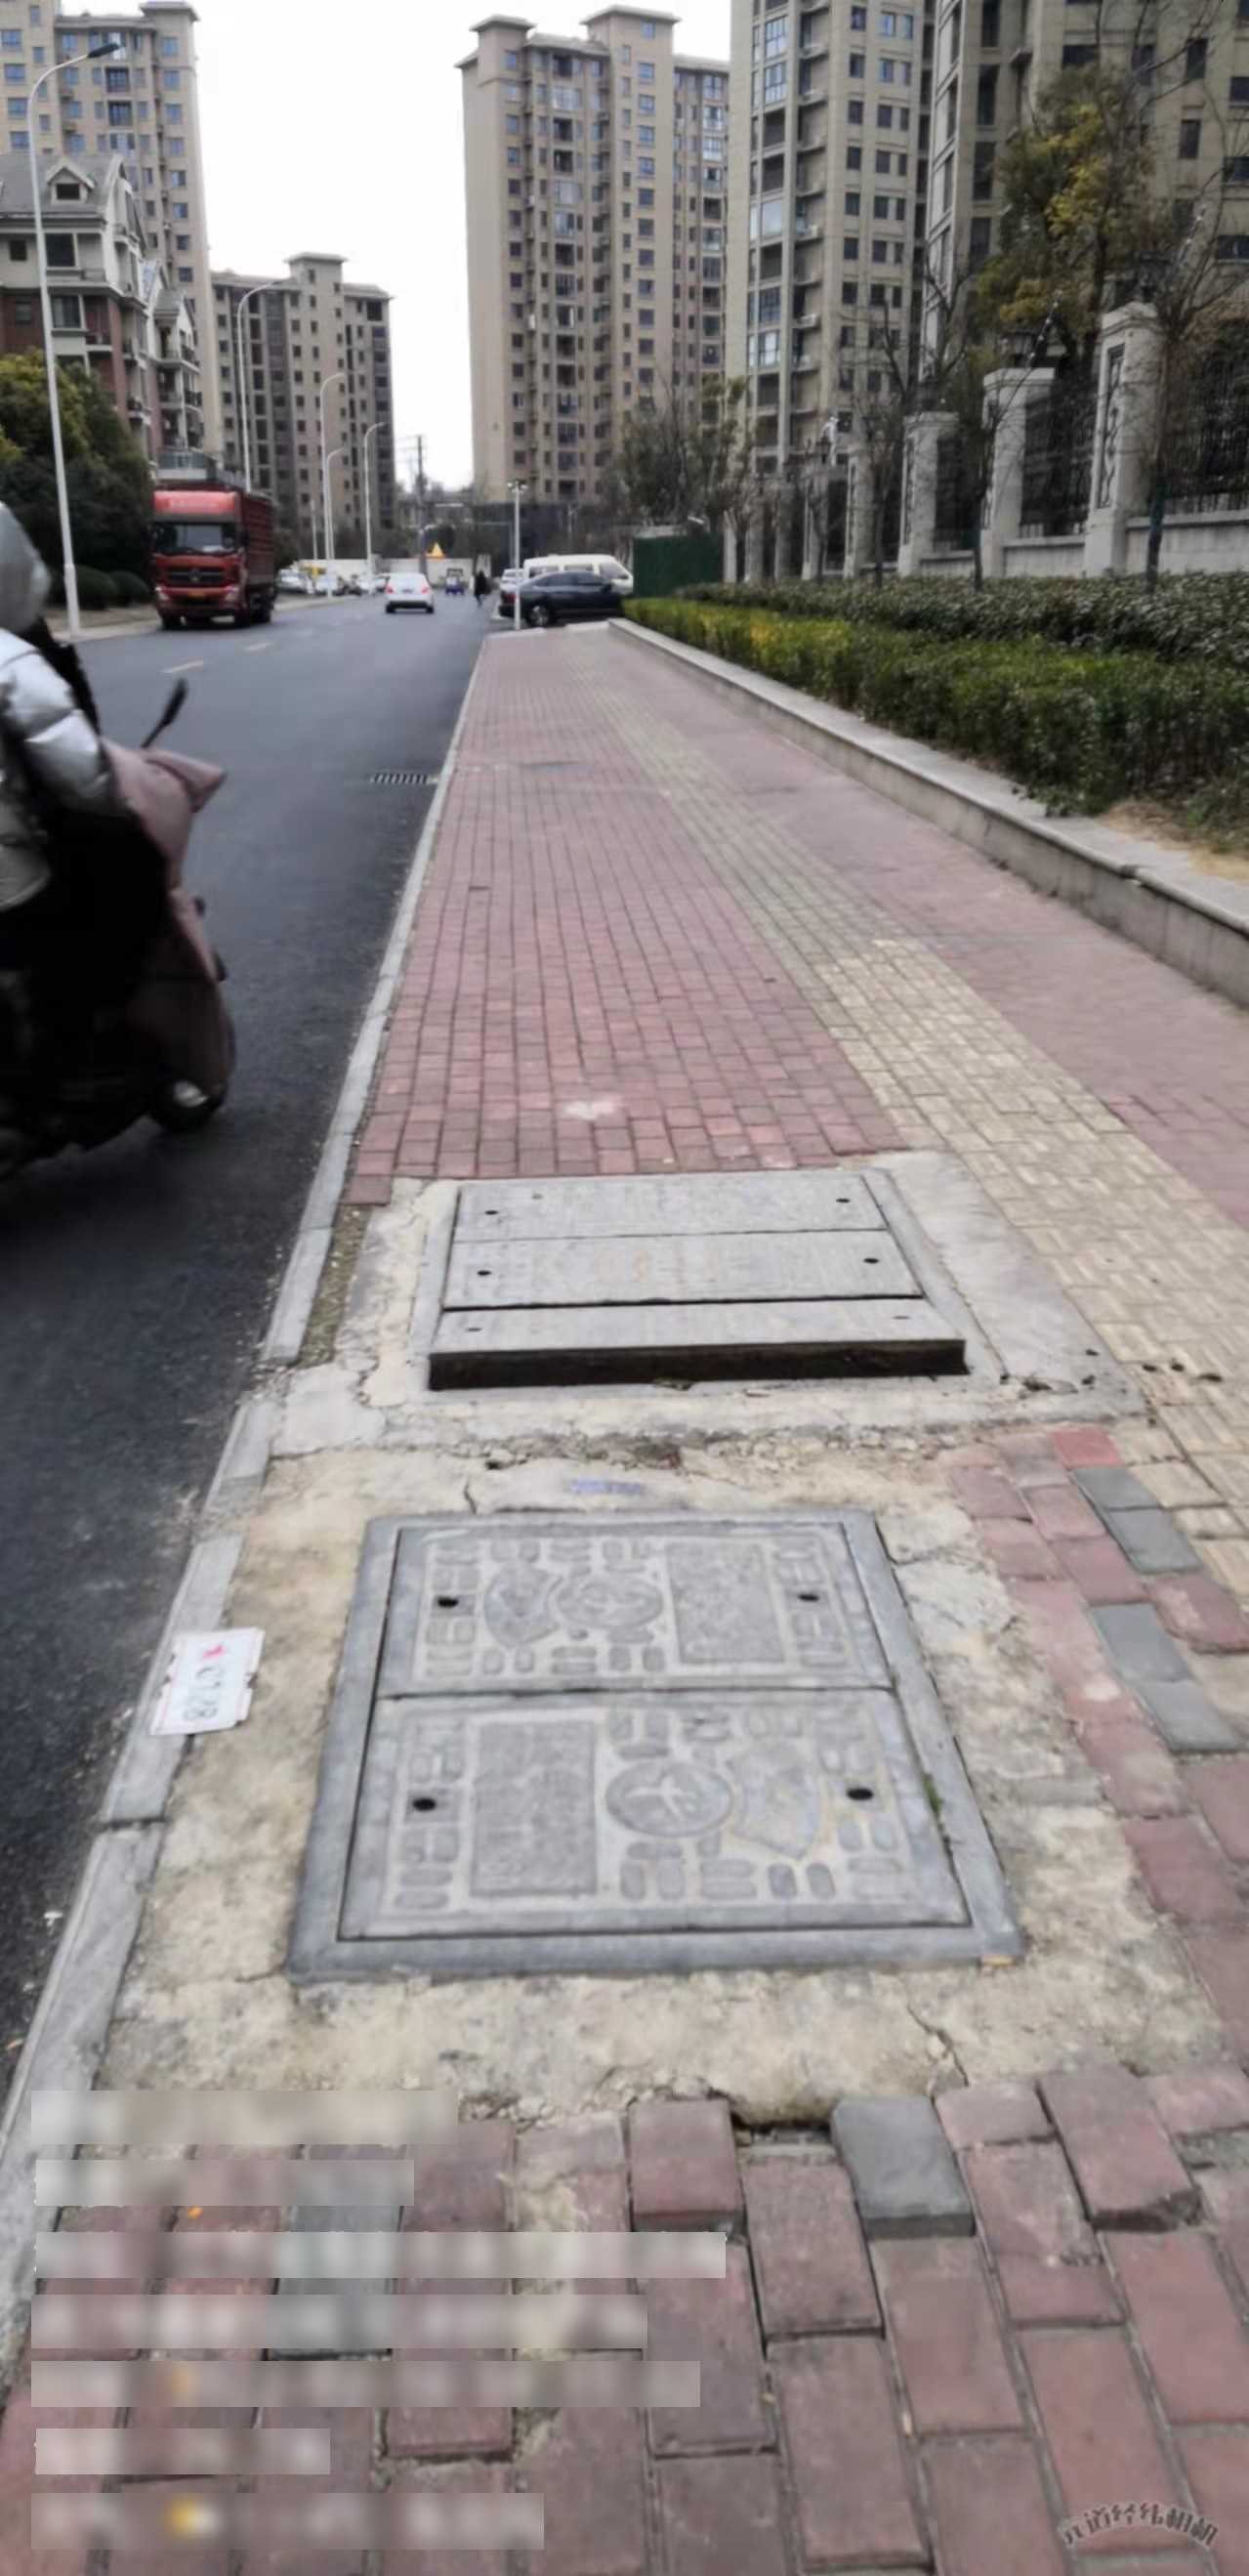good: (282, 1511, 1031, 1989)
uncovered: (405, 1173, 1014, 1413)
